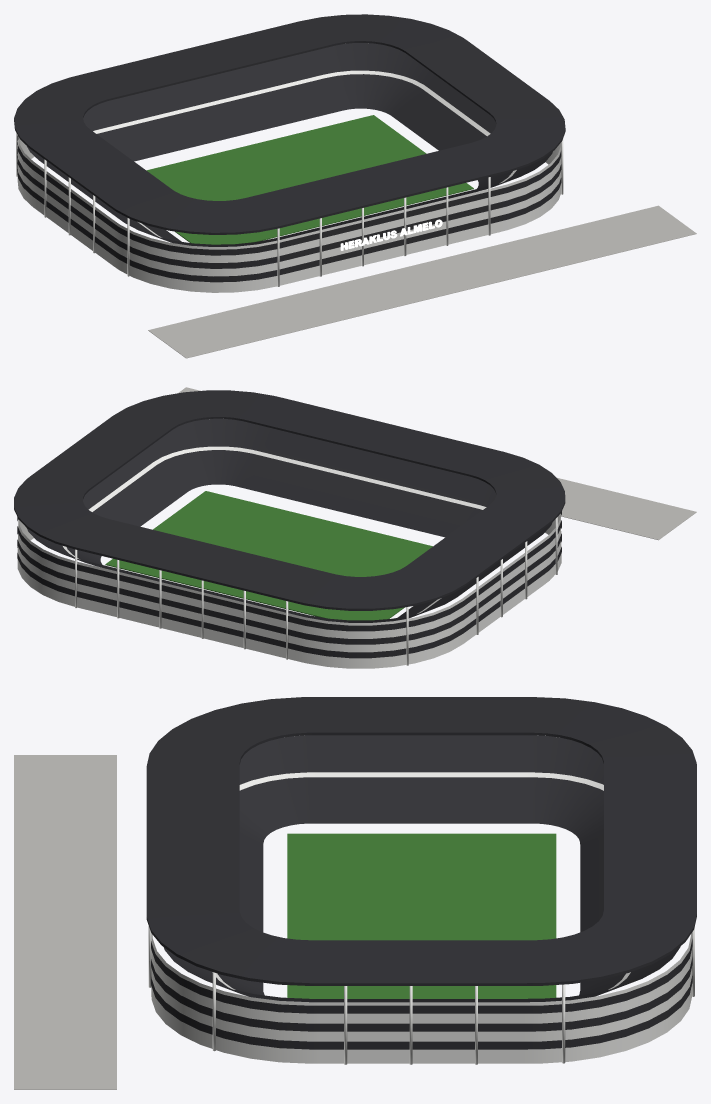
File: lm_heraklus.glb
3 views of the same model, one above another, from view 1: azimuth 30°, elevation 25°; view 2: azimuth 150°, elevation 25°; view 3: azimuth 270°, elevation 25° (orthographic). The views are drawn at different scales.
Visible parts, largest first — view 1: roof, stands, car_park, facade, facade_black2, facade_black0, facade_black1, stands_rows, mow7, mow3, mow8, mow4 (+5 smaller); view 2: roof, stands, facade, car_park, facade_black0, facade_black2, facade_black1, stands_rows, mow6, mow7, mow5, mow3 (+6 smaller); view 3: roof, stands, car_park, facade, mow2, mow4, mow0, mow1, mow3, facade_black1, facade_black2, facade_black0 (+4 smaller).
Boxes of the visible parts, x1,y1,x2,y2 form: roof: (14,14,565,234); stands: (26,43,552,246); car_park: (148,205,696,358); facade: (17,136,560,292); facade_black2: (17,135,561,255); facade_black0: (17,162,561,282); facade_black1: (17,148,561,268); stands_rows: (93,70,516,237); mow7: (313,122,442,202); mow3: (195,151,323,231); mow8: (343,115,471,195); mow4: (224,144,353,224); roof: (14,390,565,610); stands: (27,418,552,622); facade: (17,513,561,668); car_park: (178,387,696,540); facade_black0: (17,539,561,658); facade_black2: (17,511,561,631); facade_black1: (17,526,561,644); stands_rows: (63,446,486,613); mow6: (166,505,295,586); mow7: (137,498,265,578); mow5: (196,513,325,593); mow3: (255,527,384,607); roof: (146,697,696,985); stands: (163,735,680,1002); car_park: (14,755,116,1089); facade: (151,933,692,1063); mow2: (287,872,556,891); mow4: (287,911,556,930); mow0: (287,833,556,852); mow1: (287,853,556,872); mow3: (287,892,556,911); facade_black1: (151,957,692,1031); facade_black2: (151,939,692,1013); facade_black0: (151,975,692,1049).
Bounding box in the file's own units: 200 × 24 × 172.
